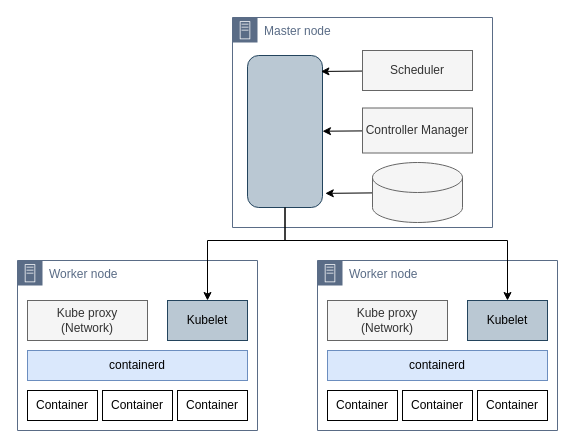
The diagram is 575 pixels wide and 448 high, and some of its shapes have lost their labels. The centre of each missing label's shape, as x and y in pixels:
"API" belongs at (284,131).
"ETCD" belongs at (417,192).
